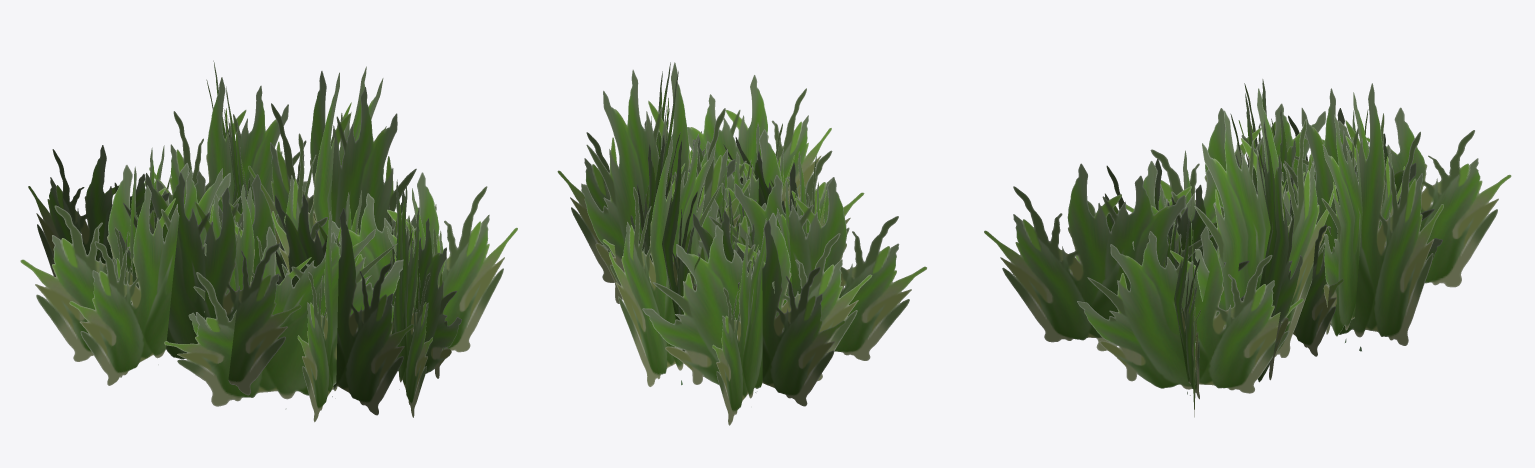
Rendered from grassBD.fbx.
3 views of the same model, side by side, from view 1: azimuth 30°, elevation 25°; view 2: azimuth 150°, elevation 25°; view 3: azimuth 270°, elevation 25° (orthographic). The views are drawn at different scales.
Visible parts, largest first — view 1: Plane.017_Plane.050; view 2: Plane.017_Plane.050; view 3: Plane.017_Plane.050.
Boxes of the visible parts, bbox=[...] form: Plane.017_Plane.050: bbox=[20, 60, 517, 422]; Plane.017_Plane.050: bbox=[557, 62, 926, 425]; Plane.017_Plane.050: bbox=[984, 79, 1511, 417].
Size of the model in its own units: 381 by 258 by 419.
